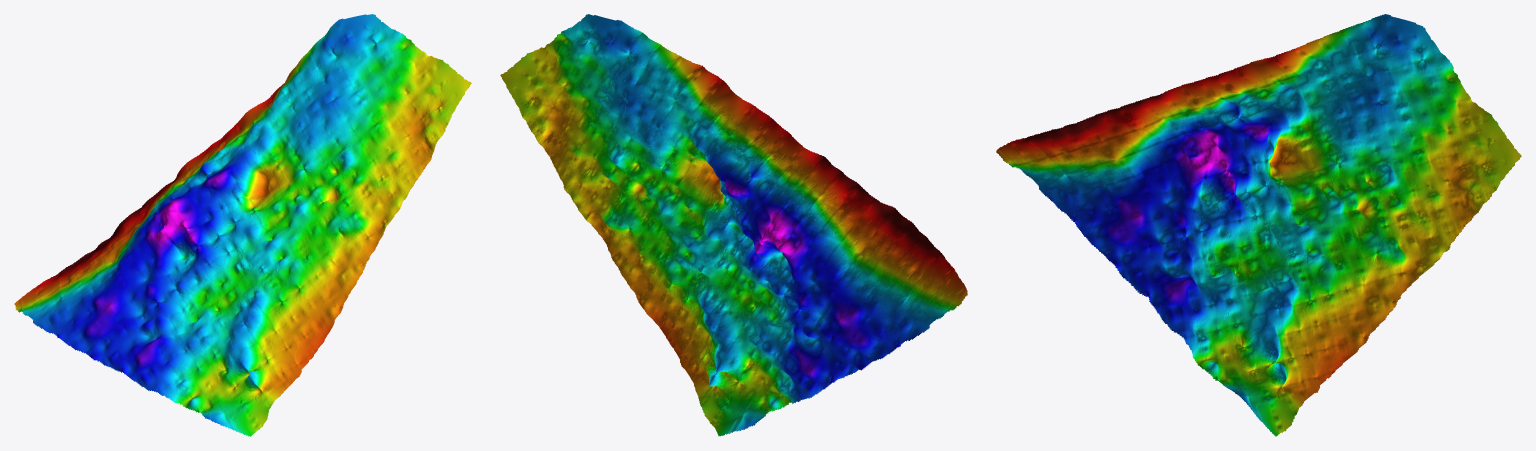
The model's file is Topo_Rifte.glb.
3 renders of one model, left to right at view 1: azimuth 30°, elevation 25°; view 2: azimuth 150°, elevation 25°; view 3: azimuth 330°, elevation 25°, orthographic. The views are drawn at different scales.
Visible parts, largest first — view 1: Surface; view 2: Surface; view 3: Surface.
Boxes of the visible parts, left/top/right/bottom form: Surface: left=14, top=14, right=471, bottom=436; Surface: left=500, top=14, right=967, bottom=436; Surface: left=996, top=14, right=1521, bottom=436.
Bounding box in the file's own units: 391200 × 318400 × 46971.
1 material, 1 textured.
